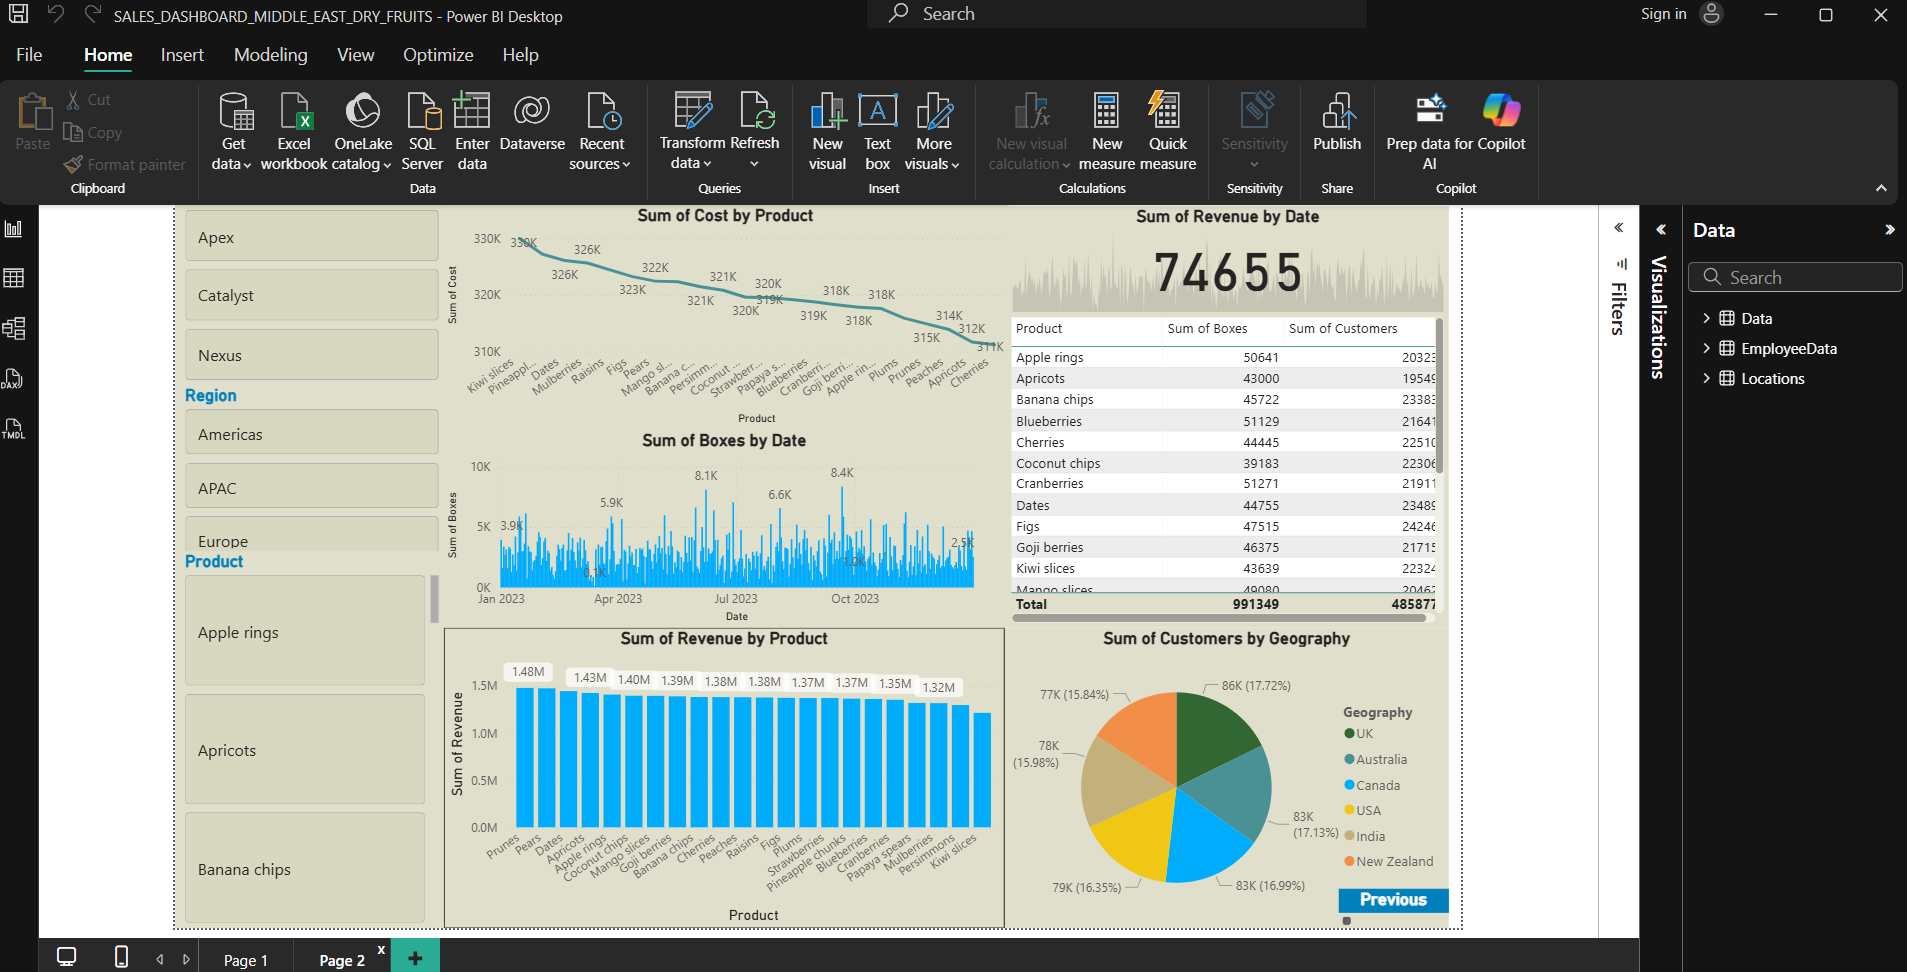

Layout of this report page (visuals, bound fields, positions):
{"tool":"powerbi","page":{"name":"Page 2","canvas":[1280,720],"ordinal":1},"visuals":[{"type":"advancedSlicerVisual","fields":{"Values":["EmployeeData.Team"]},"box":[0,0,267.5,180.4],"z":0},{"type":"lineClusteredColumnComboChart","fields":{"Category":["Data.Product"],"Y":["Sum(Data.Revenue)"]},"box":[267.5,420.5,558.5,299.8],"z":1000},{"type":"advancedSlicerVisual","fields":{"Values":["Locations.Region"]},"box":[0,179.1,267.5,180.4],"z":2000},{"type":"advancedSlicerVisual","fields":{"Values":["Data.Product"]},"box":[0,344.6,267.5,375.7],"z":3000},{"type":"clusteredColumnChart","fields":{"Category":["Data.Date"],"Y":["Sum(Data.Boxes)"]},"box":[266.2,223.9,561,196.5],"z":4000},{"type":"lineChart","fields":{"Category":["Data.Product"],"Y":["Sum(Data.Cost)"]},"box":[266.2,0,563.5,223.9],"z":5000},{"type":"pieChart","fields":{"Y":["Sum(Data.Customers)"],"Category":["Data.Geography"]},"box":[826,420.5,441.6,299.8],"z":6000},{"type":"kpi","fields":{"TrendLine":["Data.Date"],"Indicator":["Sum(Data.Revenue)"]},"box":[828.5,1.2,439.1,110.7],"z":6001},{"type":"tableEx","fields":{"Values":["Data.Product","Sum(Data.Boxes)","Sum(Data.Customers)"]},"box":[826,107,441.6,313.5],"z":6002},{"type":"actionButton","title":"Previous","box":[1158.1,680.4,109.5,39.8],"z":6003}]}

Visuals, with their boxes on the page's 1280x720 design canvas (x1, y1, x2, y2). These are canvas units, not pixel positions in the 1907x972 screenshot, which may show the page scaled, cropped or inside an application window:
advancedSlicerVisual - EmployeeData.Team: 0:0:268:180
lineClusteredColumnComboChart - Data.Product x Sum(Data.Revenue): 268:420:826:720
advancedSlicerVisual - Locations.Region: 0:179:268:360
advancedSlicerVisual - Data.Product: 0:345:268:720
clusteredColumnChart - Data.Date x Sum(Data.Boxes): 266:224:827:420
lineChart - Data.Product x Sum(Data.Cost): 266:0:830:224
pieChart - Sum(Data.Customers) x Data.Geography: 826:420:1268:720
kpi - Data.Date x Sum(Data.Revenue): 828:1:1268:112
tableEx - Data.Product x Sum(Data.Boxes): 826:107:1268:420
"Previous" actionButton: 1158:680:1268:720
